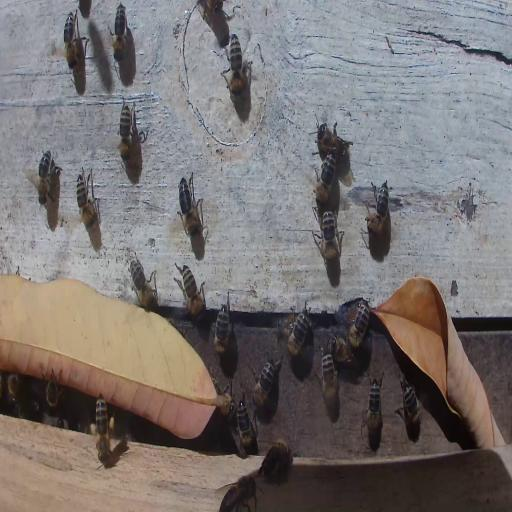nonpollenbee: (249, 350, 284, 408), (313, 206, 343, 268), (176, 176, 204, 237), (128, 256, 158, 311), (75, 173, 100, 234), (315, 121, 348, 167), (284, 307, 313, 358), (219, 474, 260, 510), (180, 263, 206, 318), (365, 179, 390, 235), (258, 438, 292, 478), (398, 378, 424, 430), (328, 334, 363, 372), (234, 398, 256, 457), (320, 346, 340, 410), (226, 34, 246, 98), (364, 375, 384, 439), (212, 301, 232, 363), (314, 151, 336, 205), (347, 302, 370, 349), (118, 99, 134, 163), (64, 12, 79, 72), (112, 2, 126, 61), (36, 151, 51, 206), (7, 371, 20, 407), (46, 377, 59, 410)
pollenbee: (90, 391, 116, 464)
